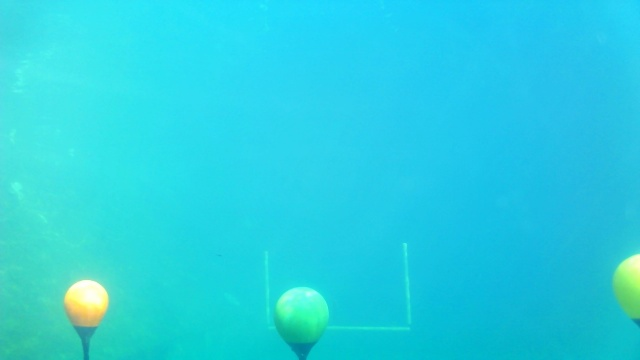buoy_green: (269, 285, 330, 359)
buoy_red: (63, 278, 109, 336)
